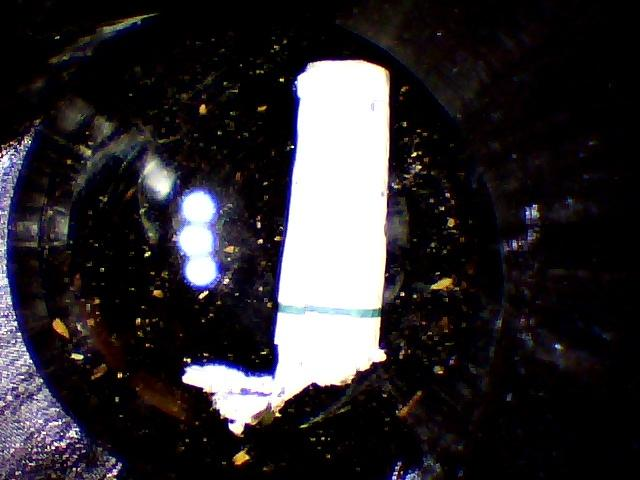megot: (168, 50, 404, 442)
